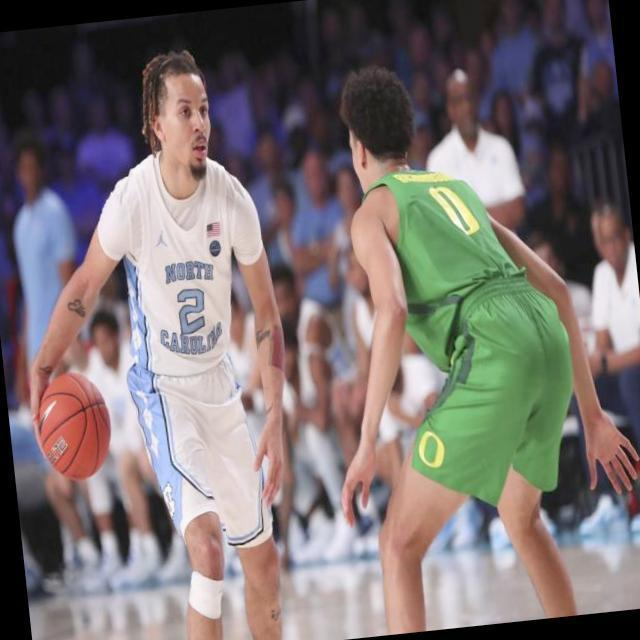ball: (29, 364, 119, 486)
